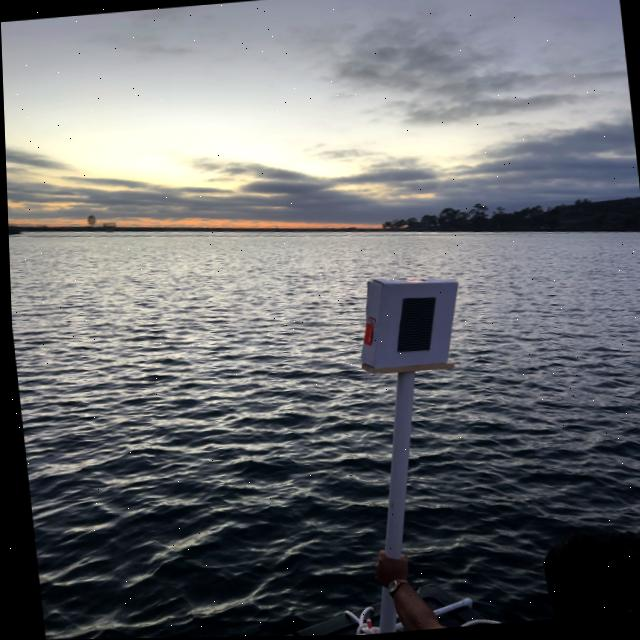led: (375, 286, 443, 369)
